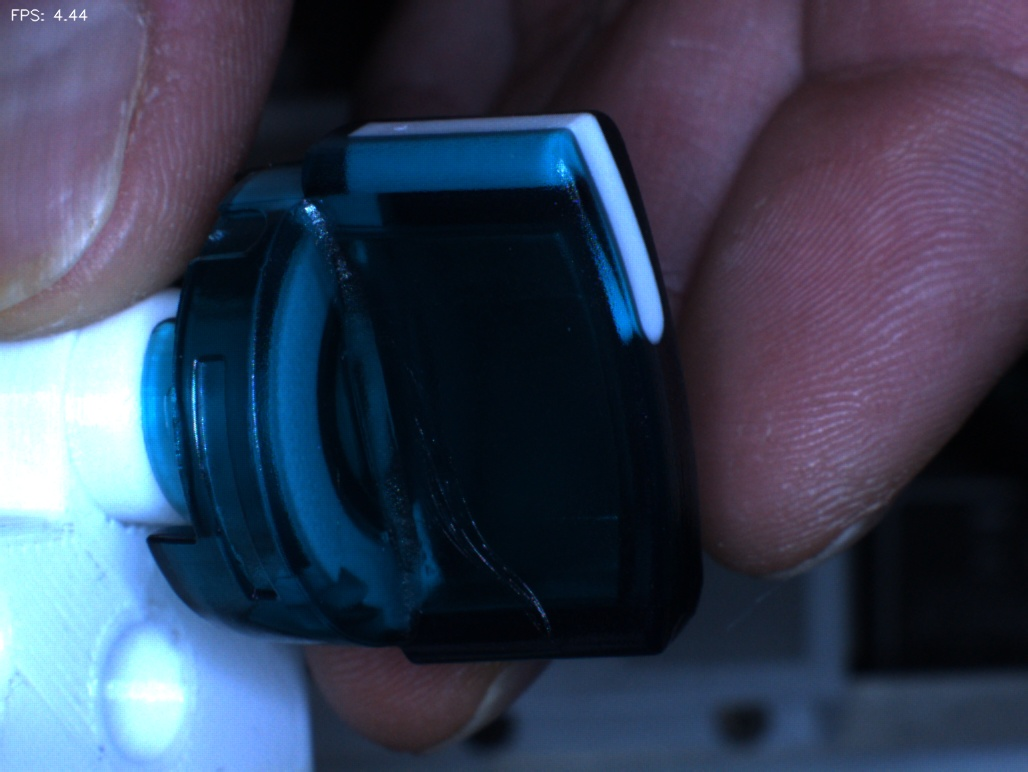Givrage: (387, 357, 567, 647)
